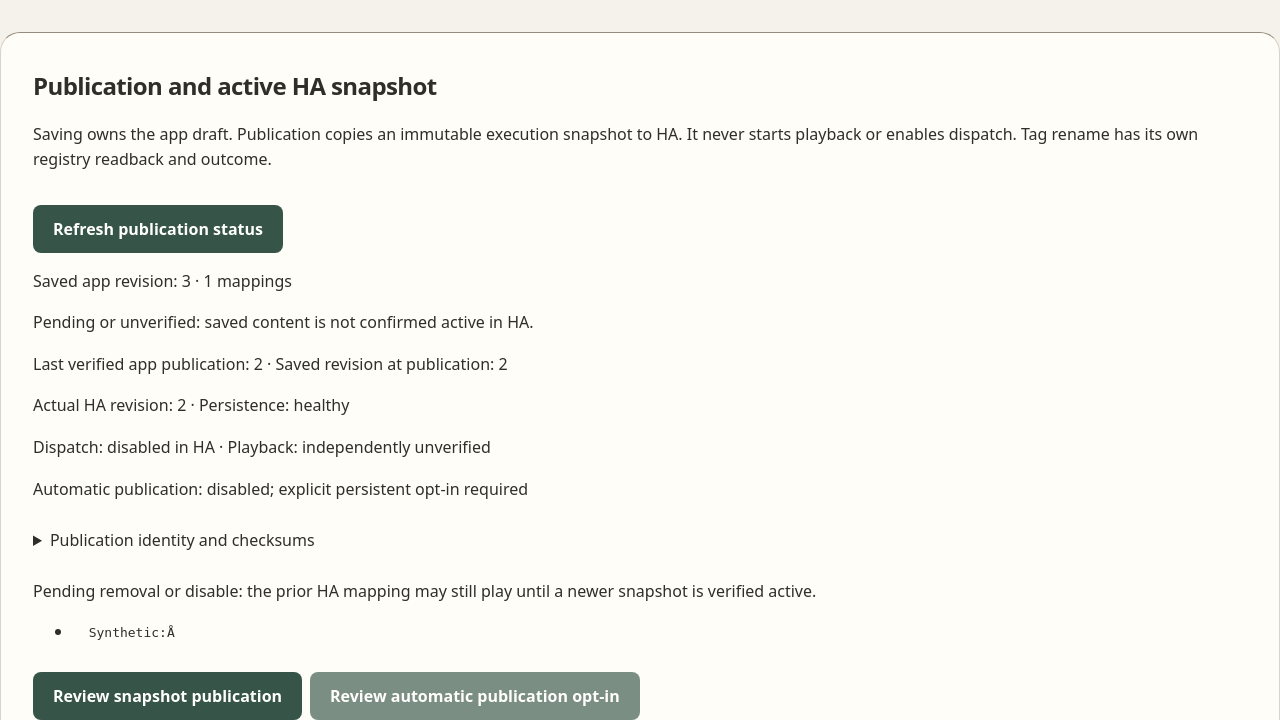
Test: requires content-bound empty confirmation and never presents queue acknowledgment as success
What coordinates should you click on to do the following:
click the button "Review snapshot publication"
I would click on:
 (168, 696)
Its box is [33, 672, 302, 719].
(page scrolled)
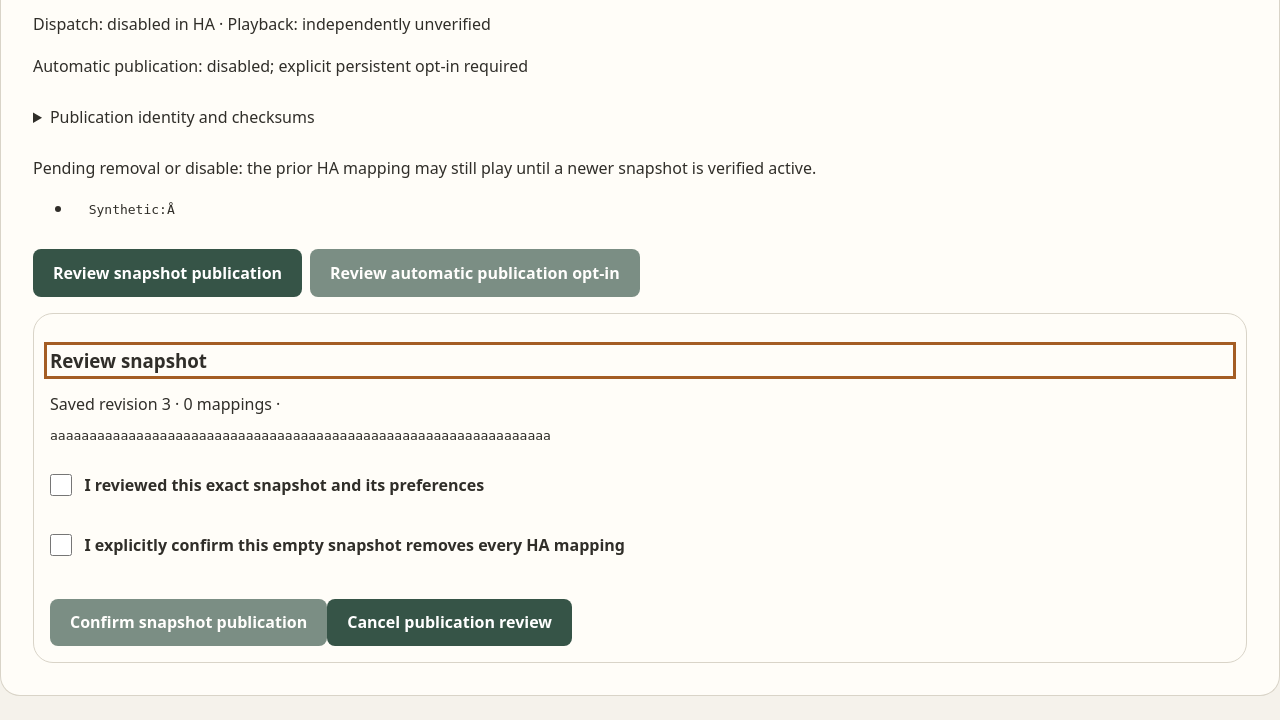
// The heading can be present before the effect transfers keyboard focus.
What coordinates should you click on to do the following:
click the checkbox labelled "I reviewed this exact snapshot and its preferences"
I would click on:
 (61, 484)
Its box is [50, 462, 72, 506].
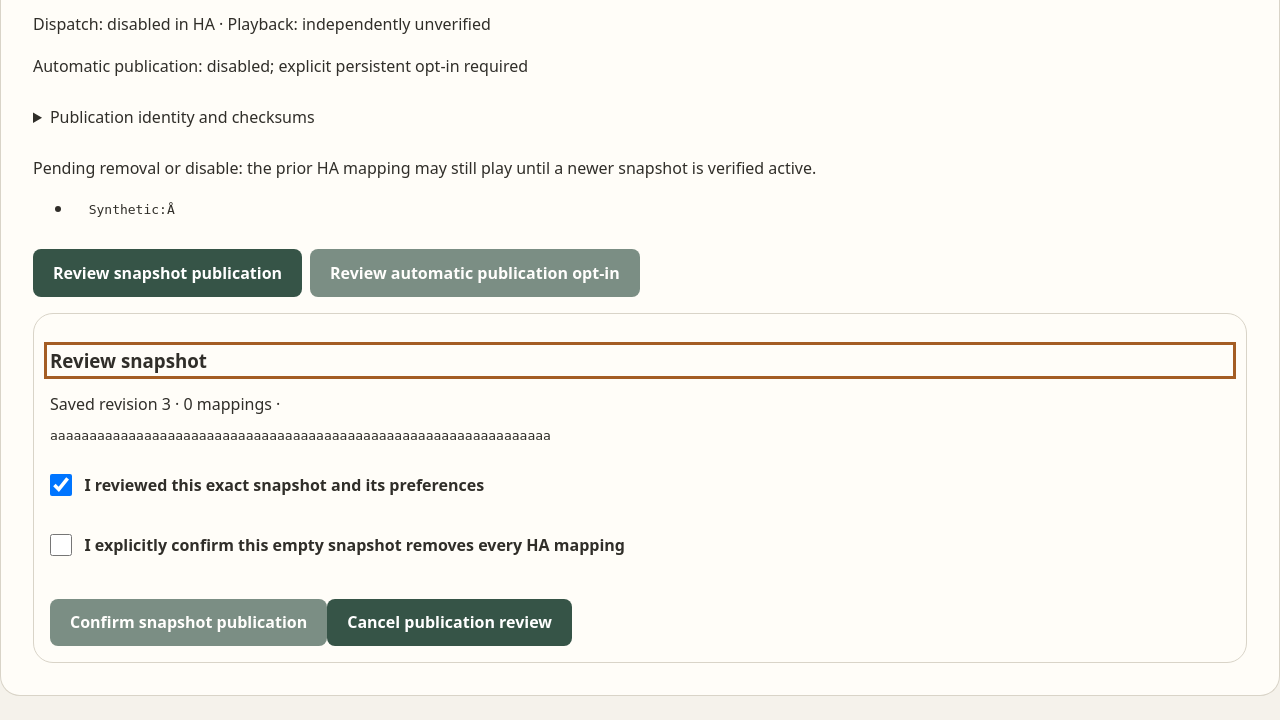
Check: the button "Confirm snapshot publication" is disabled, box [50, 598, 327, 646]
What coordinates should you click on to do the following:
click the checkbox labelled "I explicitly confirm this empty snapshot"
I would click on:
 (61, 544)
Its box is [50, 522, 72, 566].
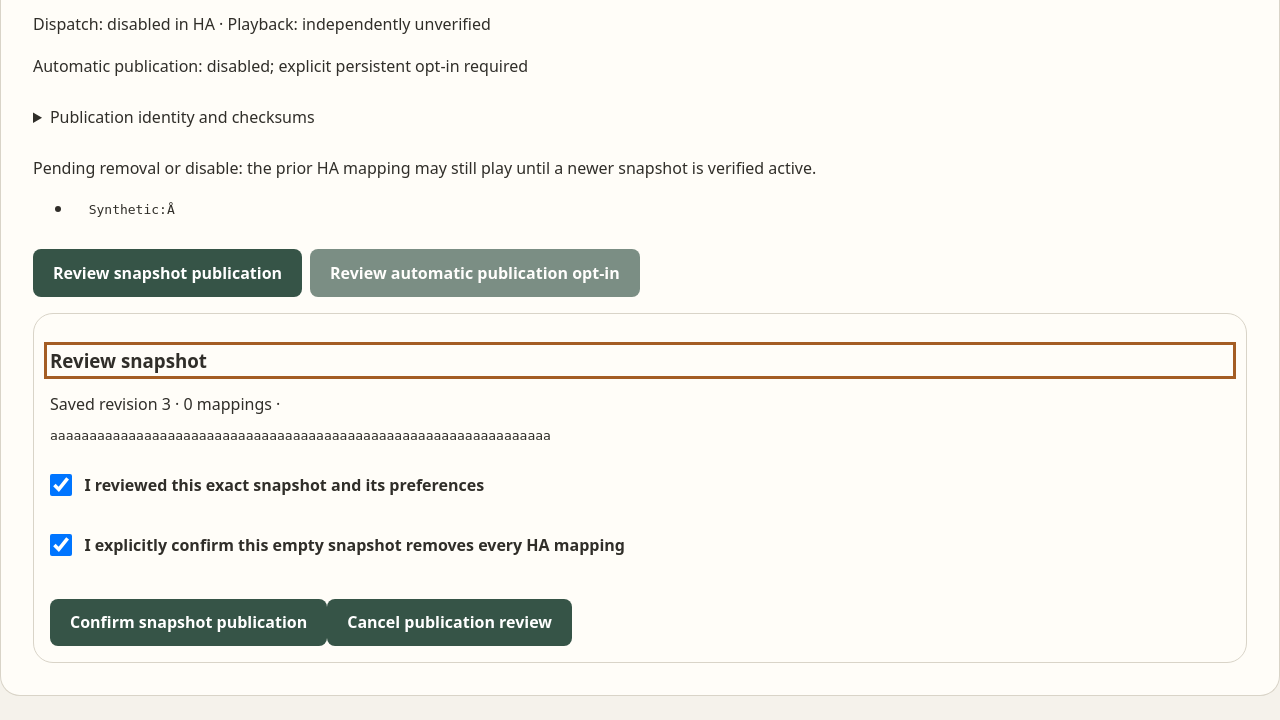
What coordinates should you click on to do the following:
click the button "Confirm snapshot publication"
I would click on:
 (189, 622)
Its box is [50, 598, 327, 646].
(page scrolled)
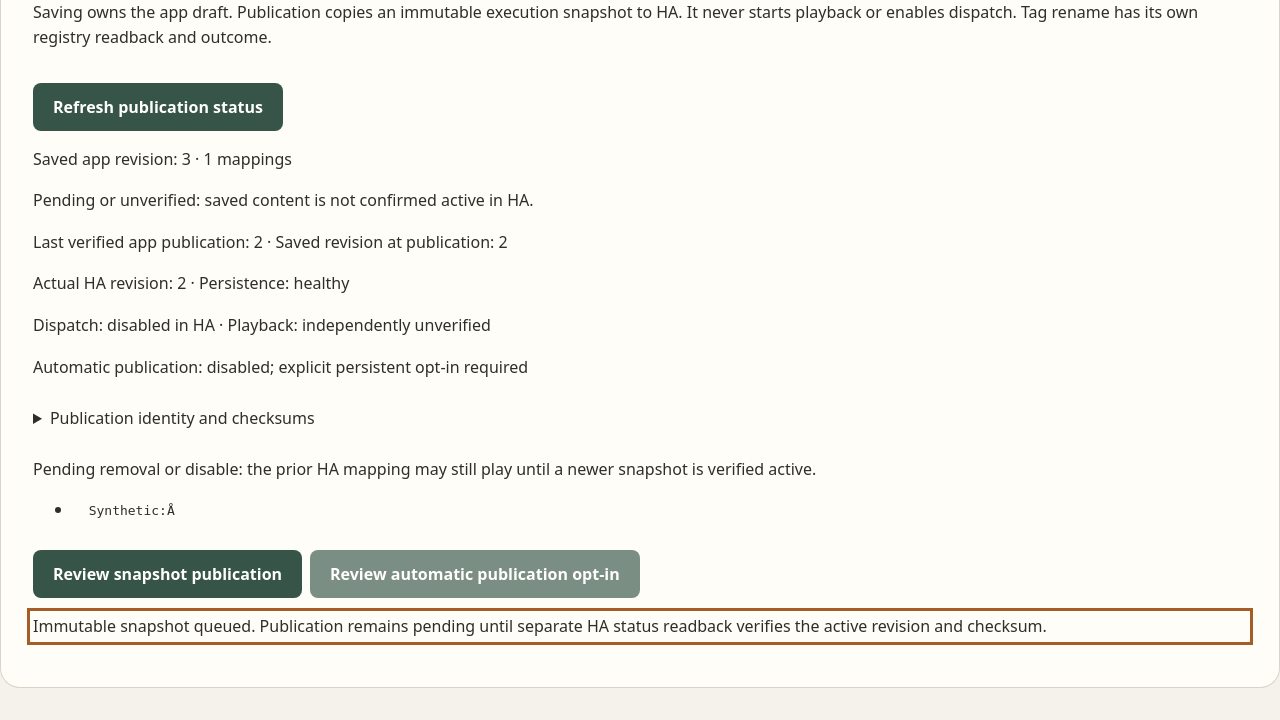
Check: the message shows "Immutable snapshot queued", box [33, 615, 1047, 637]
